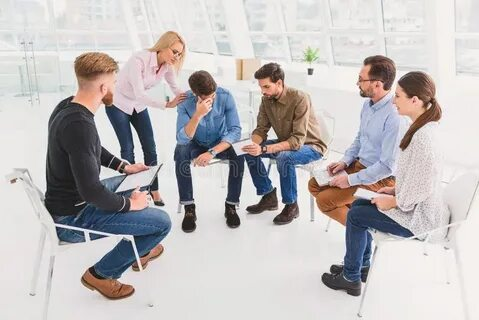awake: (44, 50, 173, 301), (314, 54, 399, 211), (104, 29, 187, 173), (246, 62, 318, 226), (176, 69, 243, 233), (382, 69, 444, 243)
